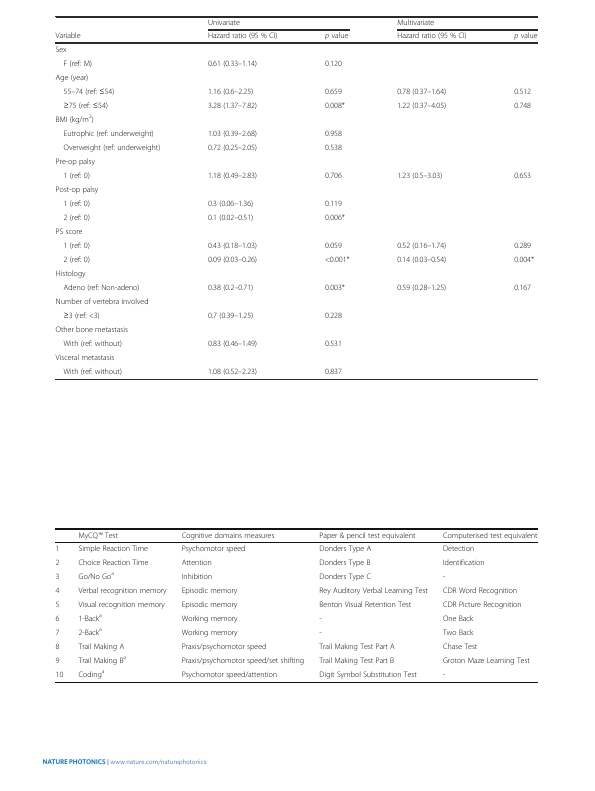borderless: (54, 15, 538, 379), (55, 527, 538, 682)
cell: (181, 656, 305, 666), (318, 586, 429, 596), (318, 670, 418, 680), (62, 143, 161, 153), (181, 670, 278, 680), (55, 297, 149, 307), (318, 600, 412, 610), (62, 129, 155, 139), (77, 586, 167, 596), (77, 600, 166, 610), (442, 656, 531, 666), (318, 531, 416, 540), (442, 531, 538, 540), (181, 642, 267, 652), (181, 531, 275, 540), (442, 600, 523, 610), (62, 283, 140, 293), (318, 642, 396, 652), (318, 656, 395, 666), (442, 586, 518, 596), (55, 325, 129, 335), (396, 32, 468, 42), (77, 544, 149, 554), (77, 558, 149, 568), (207, 32, 278, 42), (181, 544, 246, 554), (62, 339, 123, 349), (62, 367, 123, 377), (55, 353, 115, 363), (77, 654, 127, 666), (181, 614, 239, 624), (181, 628, 239, 638), (181, 586, 238, 596), (181, 600, 238, 610), (318, 544, 372, 554), (318, 572, 372, 582), (62, 87, 115, 97), (318, 558, 371, 568), (207, 59, 258, 69), (396, 87, 447, 97), (207, 101, 258, 111), (396, 101, 447, 111), (207, 129, 258, 139), (207, 143, 258, 153), (207, 171, 258, 181), (207, 241, 258, 251), (396, 241, 447, 251), (207, 255, 258, 265), (396, 255, 447, 265), (396, 283, 447, 293), (207, 339, 258, 349), (207, 367, 258, 377), (77, 642, 125, 652), (207, 87, 254, 97), (62, 101, 109, 111), (396, 171, 443, 181), (207, 199, 254, 209), (207, 213, 254, 223), (207, 283, 254, 293), (207, 311, 254, 321), (77, 570, 115, 582), (55, 114, 95, 125), (55, 185, 99, 195), (442, 558, 485, 568), (55, 157, 96, 167), (62, 311, 101, 321), (77, 531, 119, 540), (442, 642, 478, 652), (396, 19, 435, 28), (55, 73, 89, 83), (77, 668, 105, 680), (442, 544, 475, 554), (181, 558, 213, 568), (181, 572, 213, 582), (442, 614, 474, 624), (442, 628, 474, 638), (77, 612, 103, 624), (77, 626, 103, 638), (62, 59, 93, 69), (55, 269, 86, 279), (207, 19, 241, 28), (62, 171, 91, 181), (62, 199, 91, 209), (62, 213, 91, 223), (62, 241, 91, 251), (62, 255, 91, 265), (55, 227, 83, 237), (324, 255, 351, 265), (55, 32, 81, 42), (324, 32, 349, 42), (513, 32, 538, 42), (324, 101, 346, 111), (324, 213, 346, 223), (513, 255, 535, 265), (324, 283, 346, 293), (324, 59, 343, 69), (324, 87, 343, 97), (513, 87, 532, 97), (513, 101, 532, 111), (324, 129, 343, 139), (324, 143, 343, 153), (324, 171, 343, 181), (513, 171, 532, 181), (324, 199, 343, 209), (324, 241, 343, 251), (513, 241, 532, 251), (513, 283, 532, 293), (324, 311, 343, 321), (324, 339, 343, 349), (324, 367, 343, 377), (55, 45, 67, 55), (55, 670, 64, 680), (54, 544, 60, 554), (54, 558, 60, 568), (54, 572, 60, 582), (55, 586, 60, 596), (55, 600, 60, 610), (55, 614, 60, 624), (318, 614, 323, 624), (55, 628, 60, 638), (318, 628, 323, 638), (55, 642, 60, 652), (55, 656, 60, 666), (442, 572, 446, 582), (442, 670, 446, 680)
